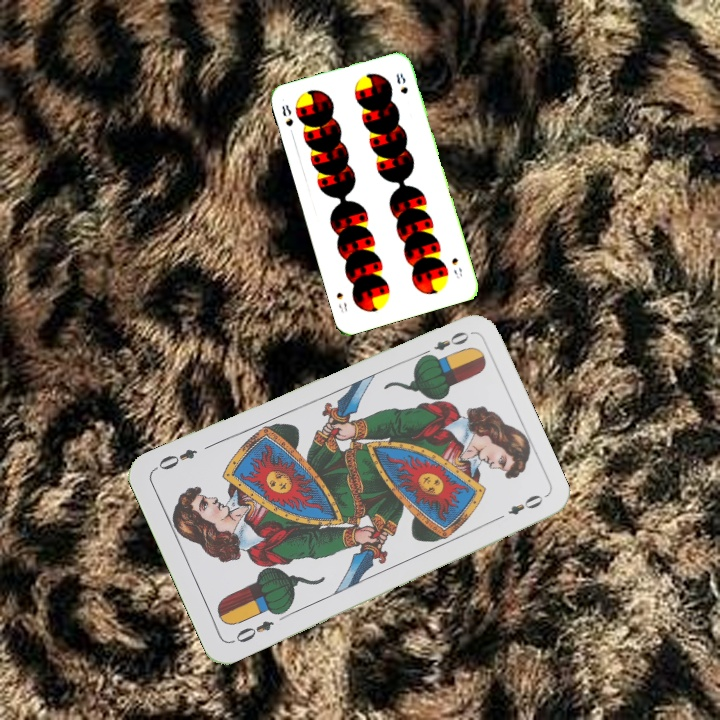EO: (416, 327, 472, 361), (227, 616, 277, 646)
S8: (278, 100, 296, 129), (447, 253, 465, 281)
